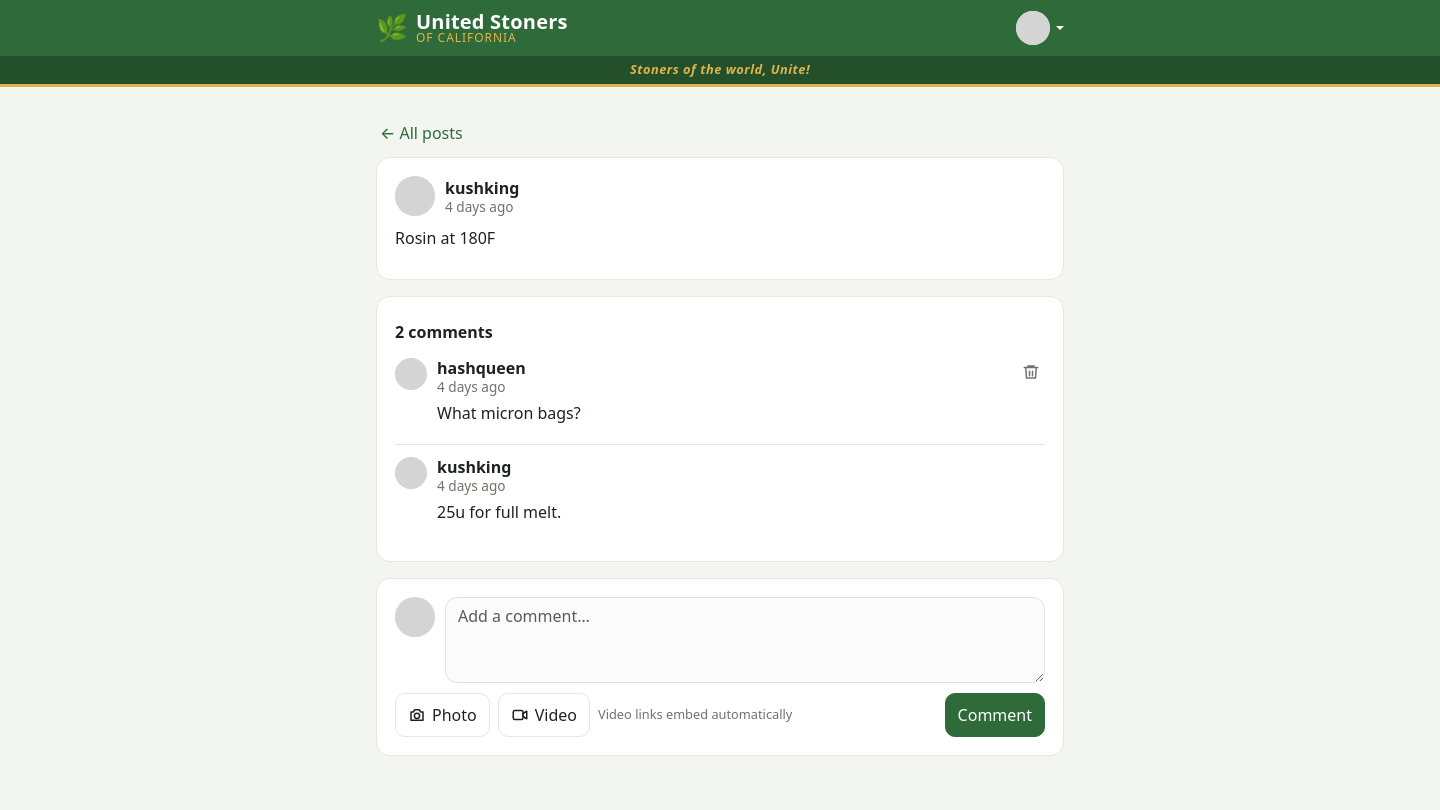
Test case: deleting comments › a member deletes their own comment and the count drops
Step 1. Click the button named "Delete" → click(1031, 372), box x1=1009 y1=350 x2=1053 y2=394
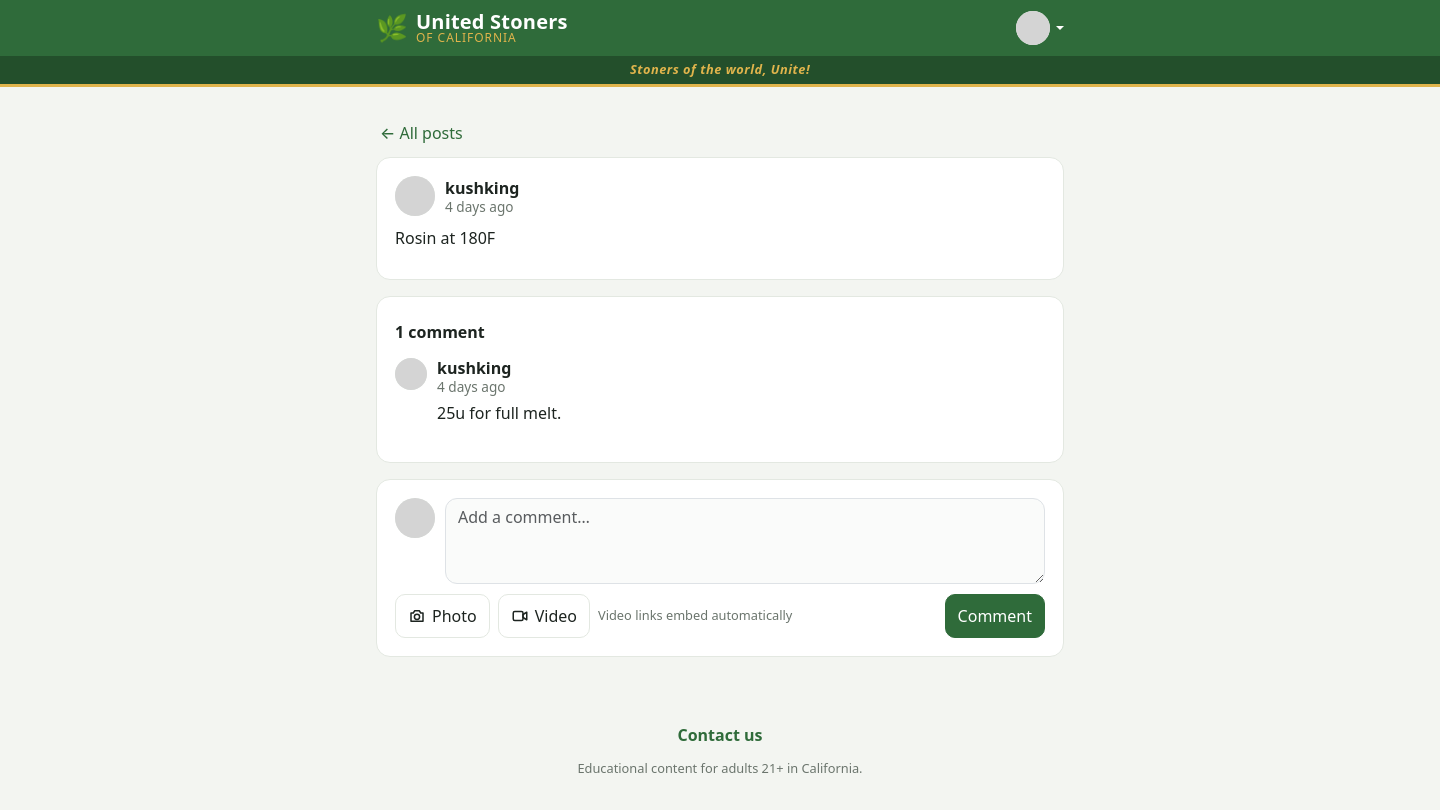
Expected: the text "What micron bags?" is gone
Expected: the heading "1 comment" is shown, x1=395 y1=321 x2=485 y2=343
